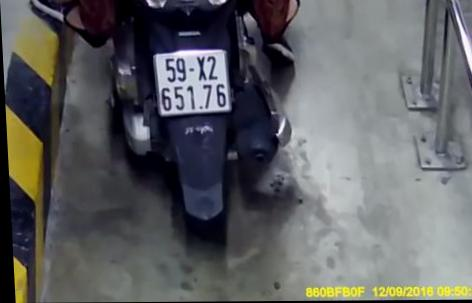License_Plate: (147, 47, 237, 116)
